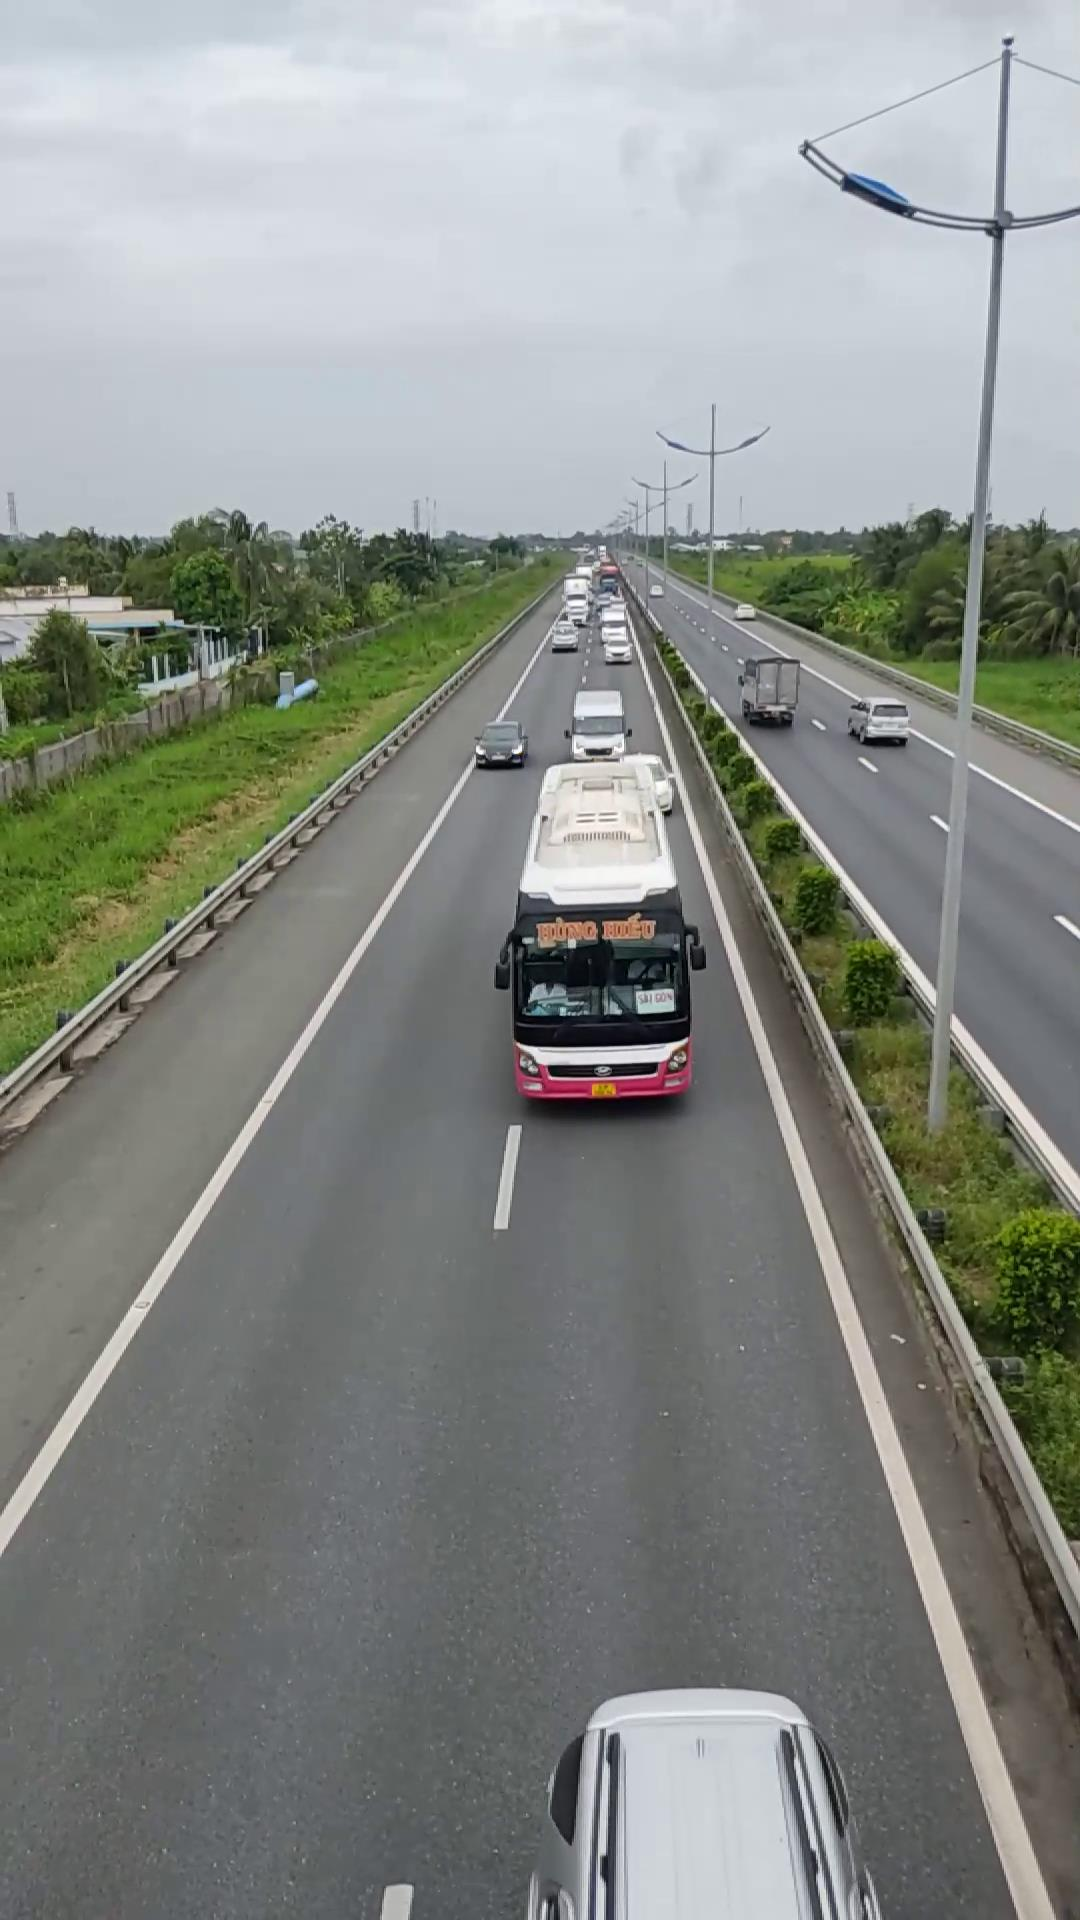bus: (493, 756, 702, 1106)
car: (527, 1687, 881, 1919)
truck: (738, 653, 798, 724)
